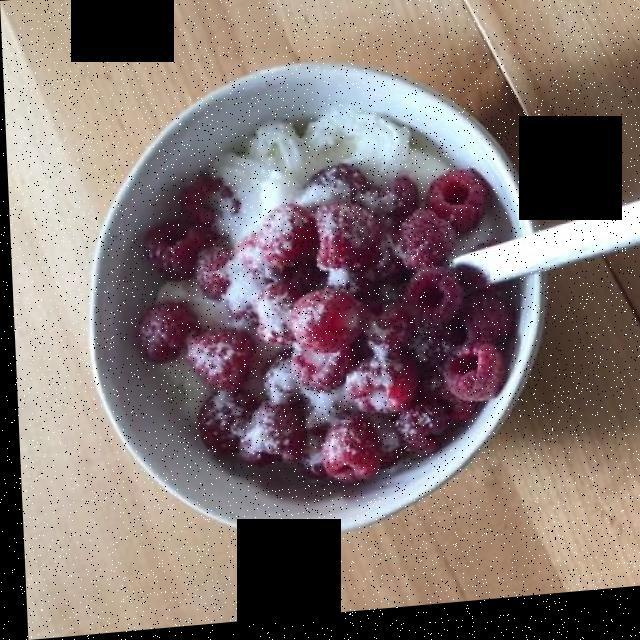curd: (138, 116, 490, 414)
raspberries: (135, 124, 507, 484)
